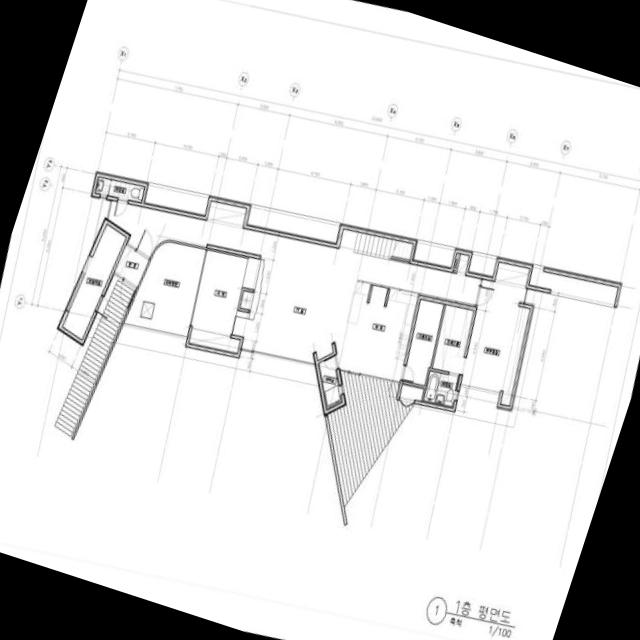background: (0, 0, 640, 640)
space_bedroom: (461, 262, 529, 405)
space_dressroom: (432, 305, 473, 373)
space_front: (114, 245, 148, 286)
space_kitchen: (338, 281, 418, 381)
space_living_room: (108, 200, 480, 364)
space_other: (62, 224, 126, 339), (189, 250, 248, 352), (403, 299, 443, 385), (319, 356, 341, 408), (400, 384, 423, 400), (453, 253, 459, 270)
space_staircase: (339, 229, 413, 259)
space_toilet: (424, 371, 459, 406), (108, 180, 144, 202), (95, 177, 110, 195)
